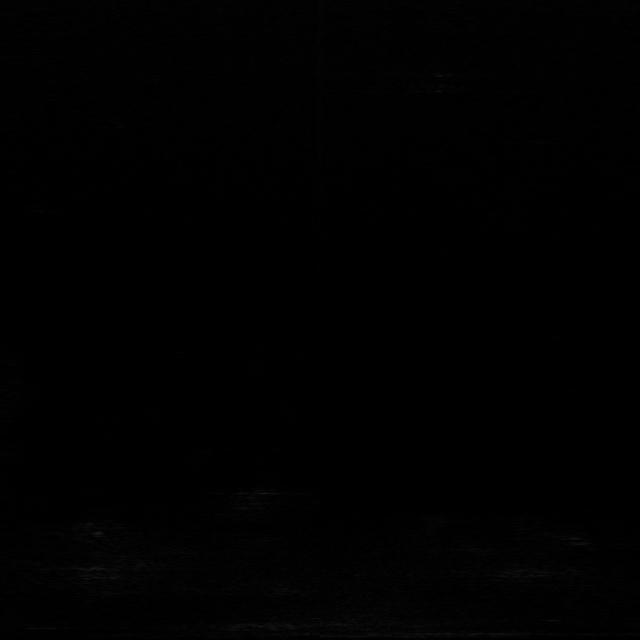rov: (428, 70, 456, 96)
